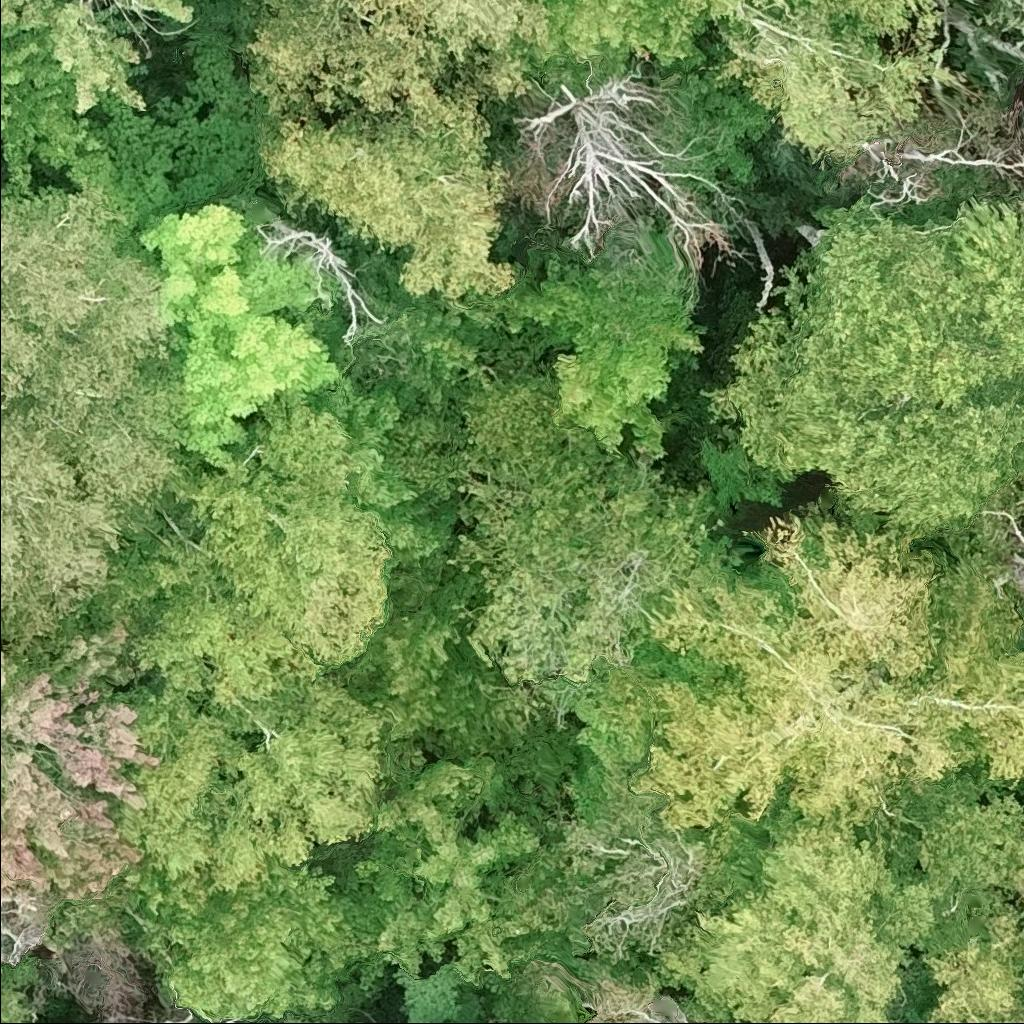crown: (612, 501, 1023, 832), (697, 194, 1023, 545), (89, 392, 397, 712), (0, 180, 207, 654), (653, 769, 1023, 1023), (107, 658, 388, 893), (459, 233, 712, 458), (318, 753, 567, 981), (134, 202, 345, 470), (251, 97, 517, 301), (508, 62, 747, 275), (0, 603, 163, 907), (230, 0, 556, 151), (658, 0, 944, 168), (70, 33, 270, 270), (107, 847, 364, 1018), (0, 0, 155, 188), (253, 214, 387, 340), (510, 0, 707, 71), (920, 899, 1023, 1023), (0, 889, 47, 964), (0, 957, 38, 1023), (140, 0, 193, 23)
